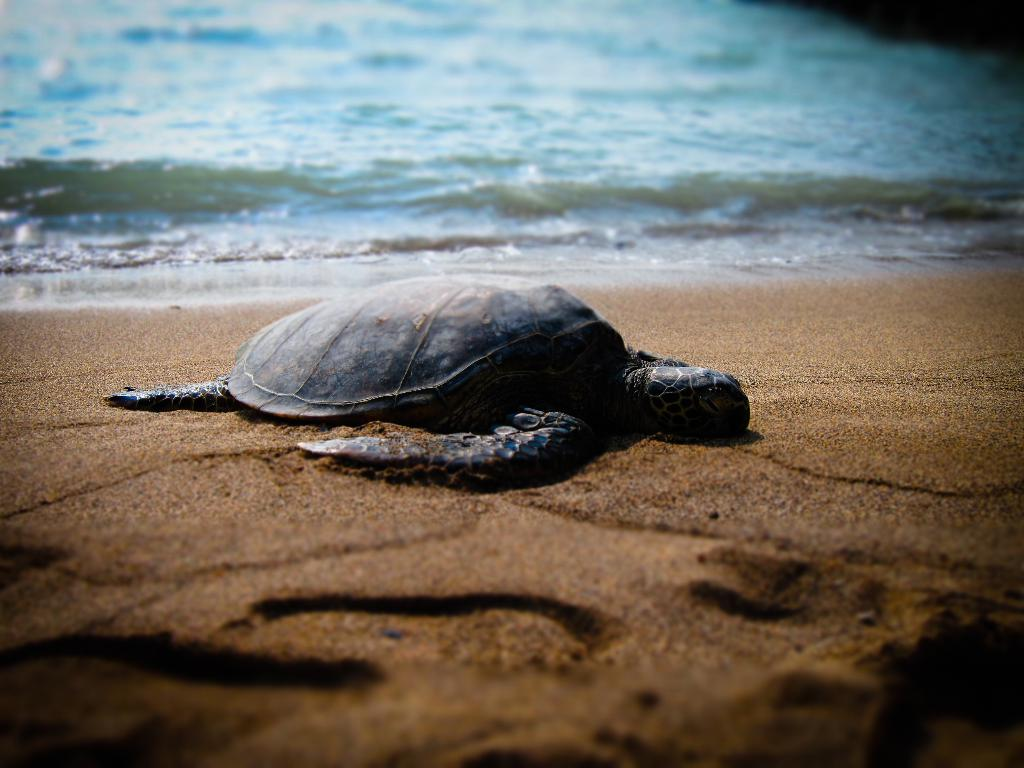Sea turtles: (92, 272, 757, 487)
